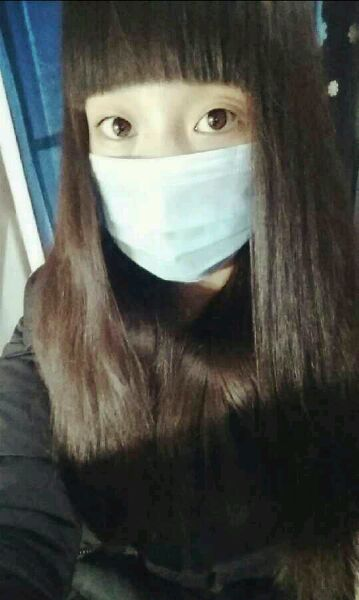face_mask: (82, 41, 268, 278)
